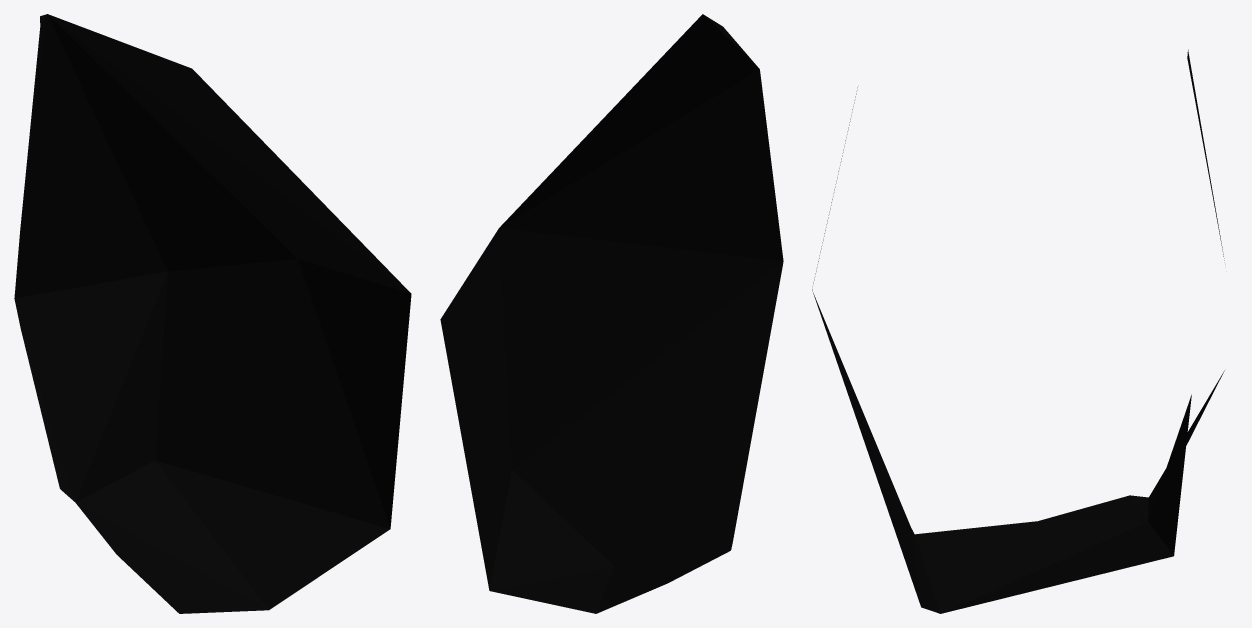
3 renders of one model, left to right at view 1: azimuth 30°, elevation 25°; view 2: azimuth 150°, elevation 25°; view 3: azimuth 270°, elevation 25°, orthographic. The views are drawn at different scales.
Bounding box in the file's own units: 0.1766 × 0.4125 × 0.2872.
1 material, 1 textured.
